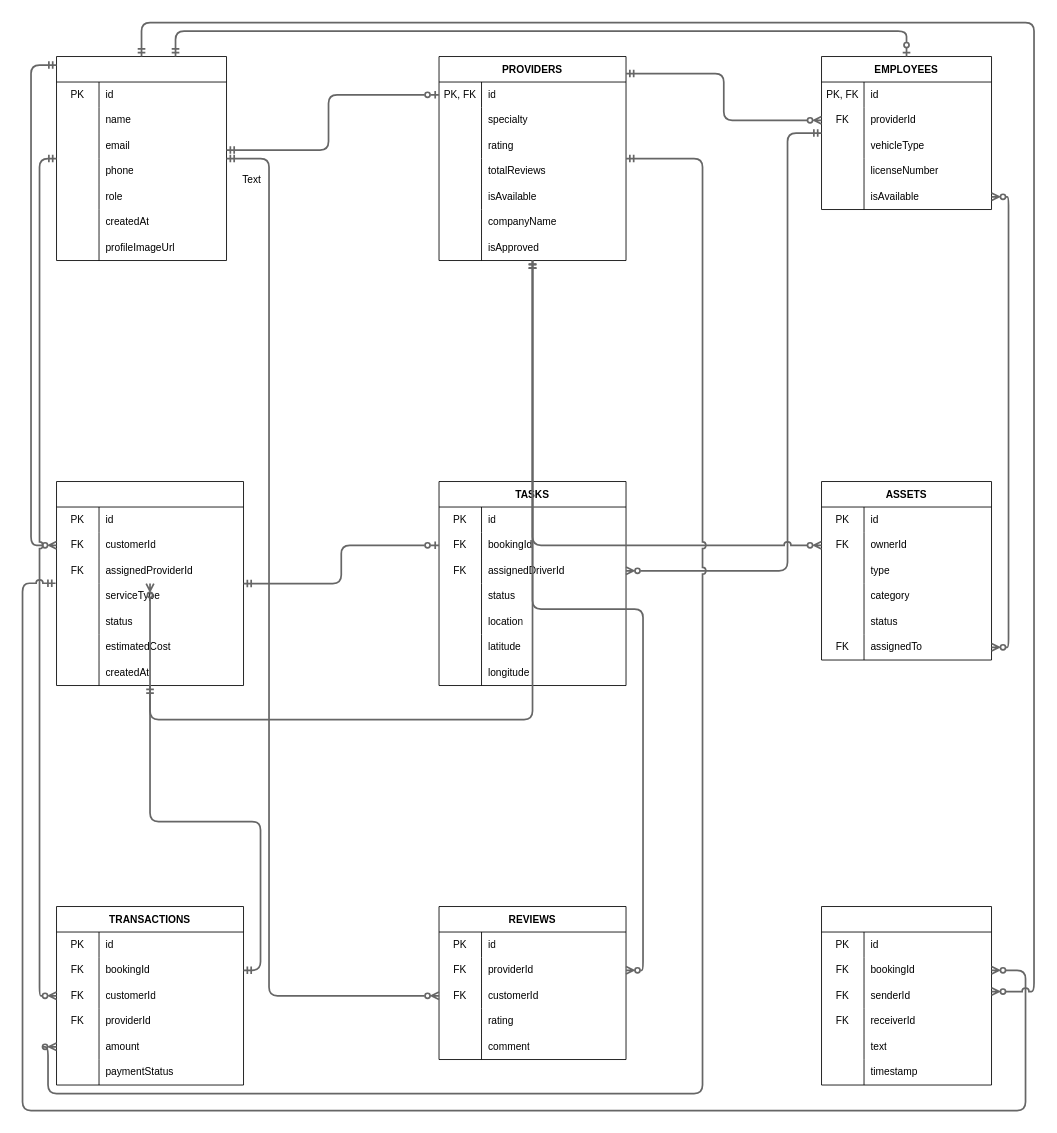
Some shapes in this 1057 by 1133 pixel diagram are drawn without their labels. The shapes that lost their labels are listed below. From the top down, each one's box as (x1, y1, x2, y2) in pixels, then its label:
(56, 56, 227, 261): USERS
(56, 481, 244, 686): BOOKINGS
(821, 906, 992, 1085): MESSAGES
